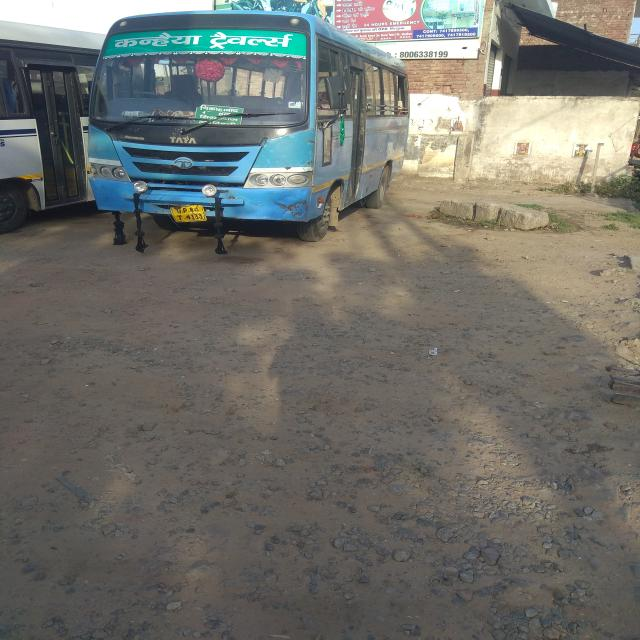Bus: (0, 11, 410, 241)
Traveller: (0, 11, 412, 244)
